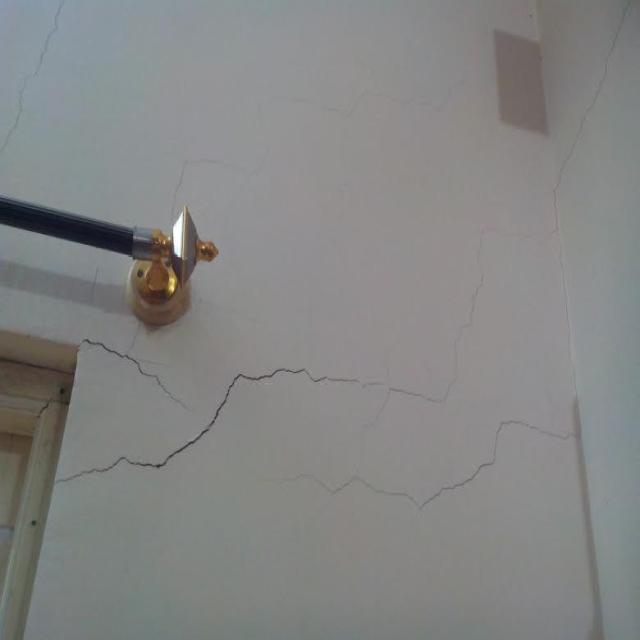crack: (168, 81, 464, 226), (358, 223, 560, 429), (47, 364, 390, 485), (269, 417, 582, 509), (550, 0, 627, 224), (0, 0, 64, 155), (72, 334, 187, 409), (557, 242, 580, 421)
